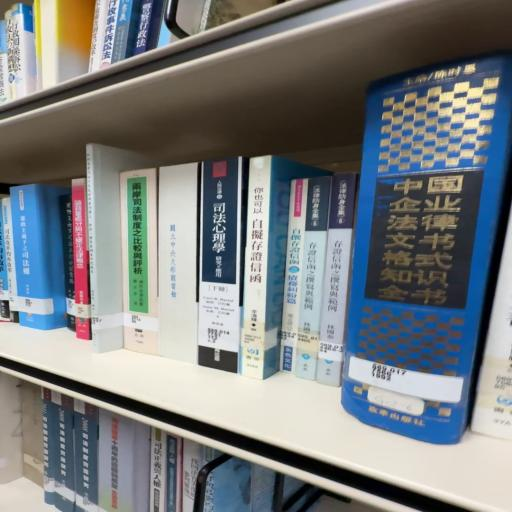backward: (154, 161, 199, 366)
book: (199, 158, 245, 377)
